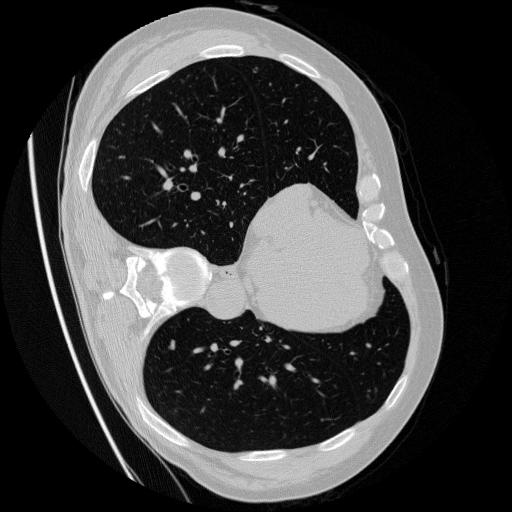nodule: (167, 337, 182, 352)
